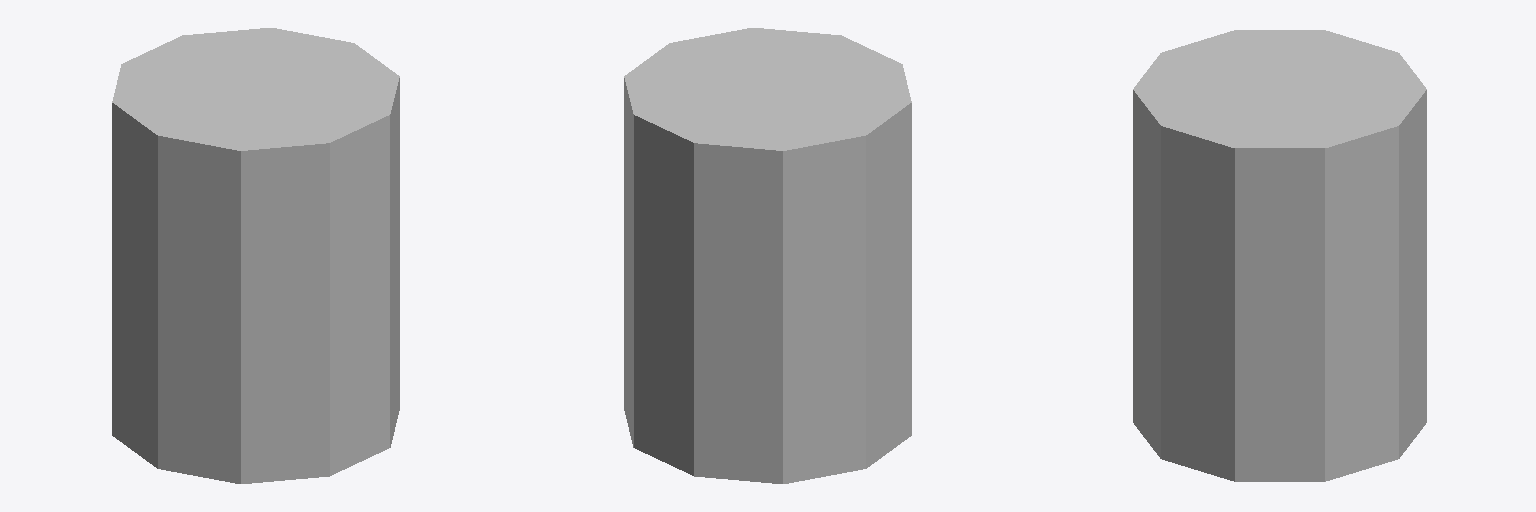
The model's file is bone.obj.
3 renders of one model, left to right at view 1: azimuth 30°, elevation 25°; view 2: azimuth 150°, elevation 25°; view 3: azimuth 270°, elevation 25°, orthographic.
Parts seen in each view (by area): view 1: Cylinder_Cylinder.003; view 2: Cylinder_Cylinder.003; view 3: Cylinder_Cylinder.003.
Boxes of the visible parts, box(x1,y1,x2,y2) form: Cylinder_Cylinder.003: box(112, 28, 399, 483); Cylinder_Cylinder.003: box(624, 28, 911, 483); Cylinder_Cylinder.003: box(1133, 30, 1426, 481).
Bounding box in the file's own units: 1.9 × 2.5 × 2.